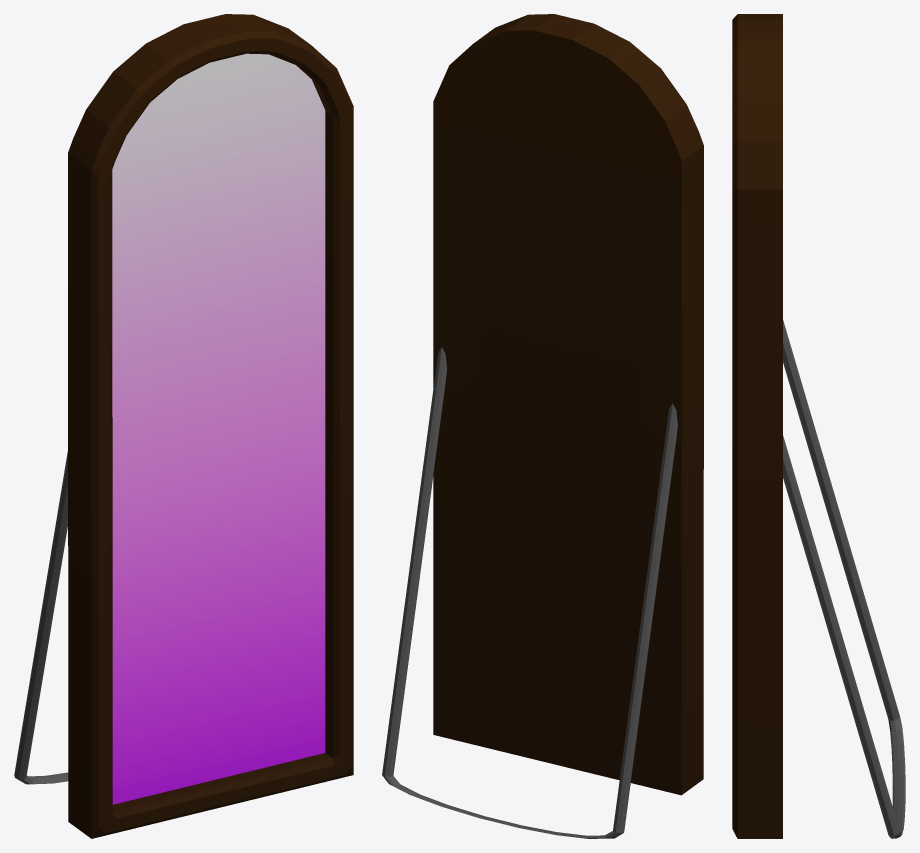
Rendered from Espejo1.fbx.
3 views of the same model, side by side, from view 1: azimuth 30°, elevation 25°; view 2: azimuth 150°, elevation 25°; view 3: azimuth 270°, elevation 25° (orthographic). The views are drawn at different scales.
Visible parts, largest first — view 1: Espejo1.001; view 2: Espejo1.001; view 3: Espejo1.001.
Part boxes in pixels (left/top/right/bottom): Espejo1.001: left=14, top=14, right=353, bottom=838; Espejo1.001: left=382, top=14, right=703, bottom=838; Espejo1.001: left=732, top=14, right=905, bottom=838.
Size of the model in its own units: 4.16 by 11.93 by 2.45.
1 material, 1 textured.
